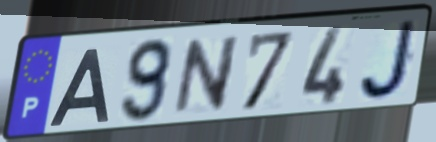4: (298, 22, 349, 108)
7: (244, 27, 299, 115)
9: (117, 35, 174, 126)
A: (46, 45, 111, 129)
J: (357, 17, 421, 104)
N: (169, 32, 243, 119)
